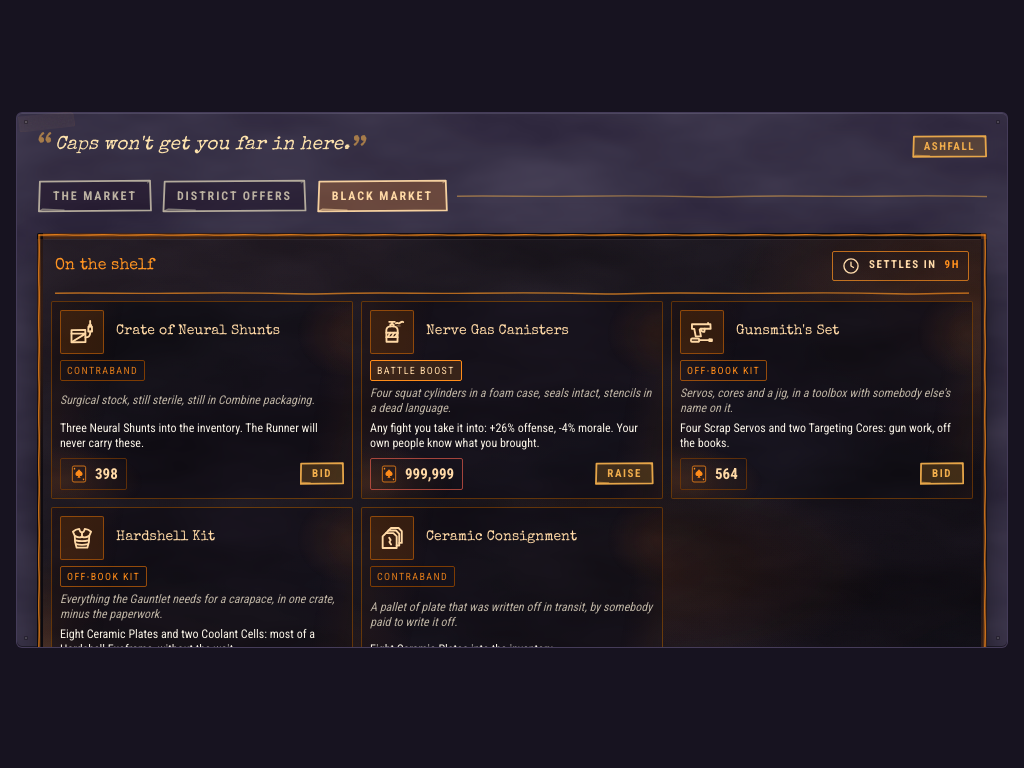
Test: the shelf as five lots › takes a bid past the ledger when the standing brings the charge inside it
This screenshot has width=1024, height=768.
Click the button with test id "black-bid-0" at (322, 474), box [300,462,344,485]
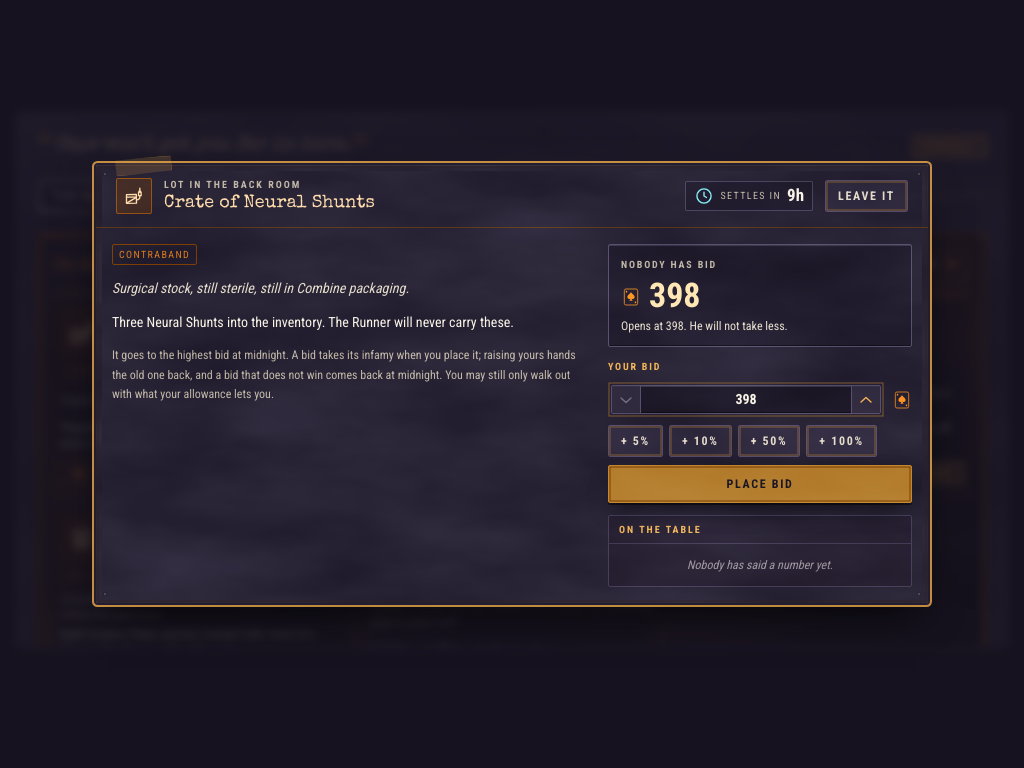
Expected: the button with test id "lot-place" is enabled, [608,465,912,503]
